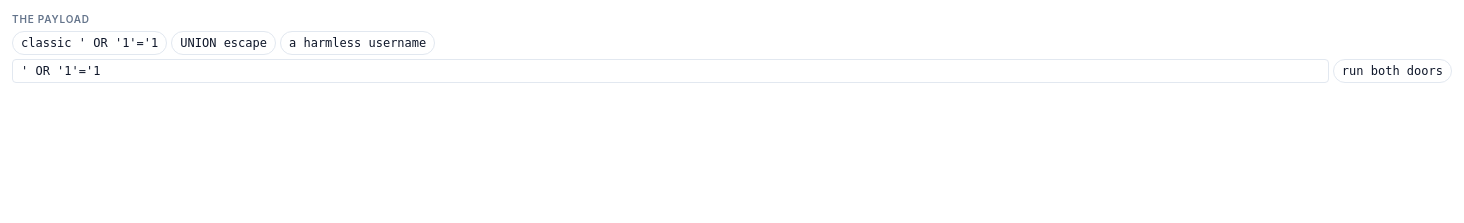
Test: SqlSafetyDemo › renders the error panel when the endpoint fails
The image size is (1464, 223).
Click the button with test id "safety-run": (1392, 71) 1333,59 -> 1452,83
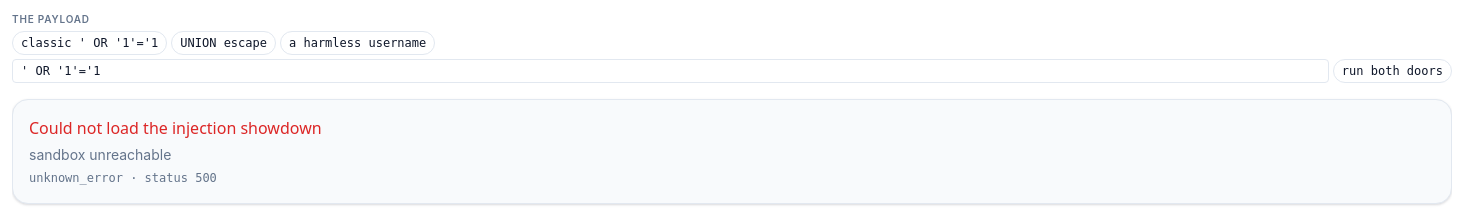
Check: the text "sandbox unreachable" is shown, box 29,146 -> 171,163
